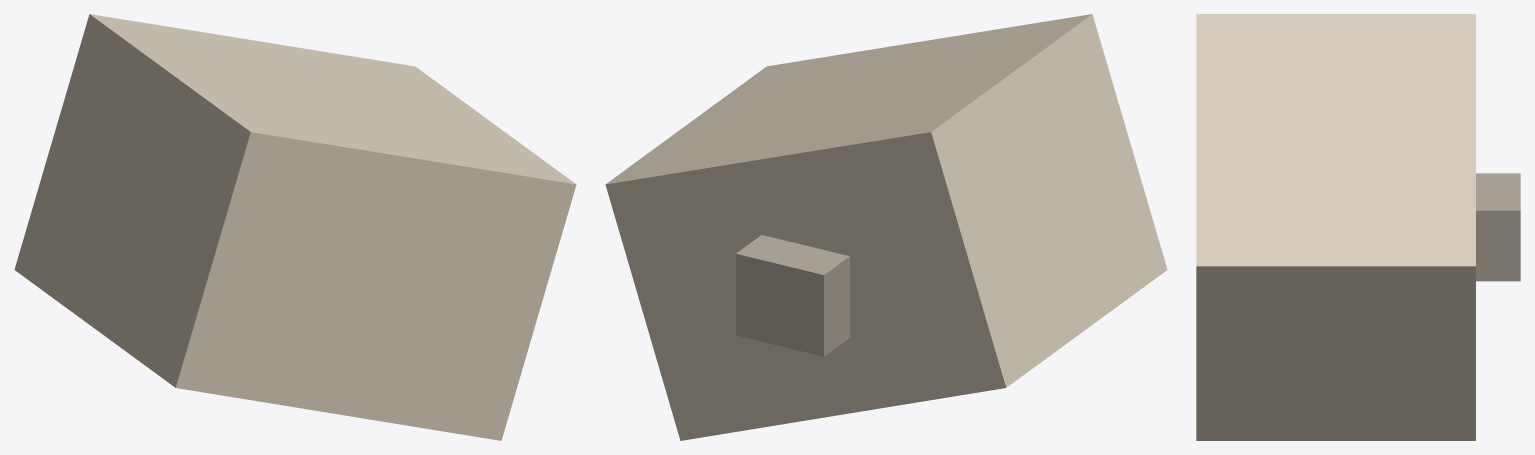
The model's file is historic-palestine-08_11_3497_3054.glb.
3 views of the same model, side by side, from view 1: azimuth 30°, elevation 25°; view 2: azimuth 150°, elevation 25°; view 3: azimuth 270°, elevation 25° (orthographic). The views are drawn at different scales.
Parts seen in each view (by area): view 1: Building_; view 2: Building_, Roof access hut; view 3: Building_, Roof access hut.
Boxes of the visible parts, <box> form: Building_: <box>14,14,576,440</box>; Building_: <box>605,14,1167,440</box>; Roof access hut: <box>736,235,849,356</box>; Building_: <box>1196,14,1475,440</box>; Roof access hut: <box>1476,173,1520,281</box>.
Size of the model in its own units: 10.76 by 9.49 by 8.7.
